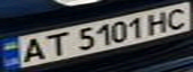0: (109, 18, 130, 43)
1: (93, 20, 115, 47), (124, 15, 148, 38)
5: (72, 25, 96, 52)
A: (12, 35, 51, 64)
C: (160, 6, 193, 30)
H: (142, 9, 172, 35)
T: (36, 30, 72, 59)
